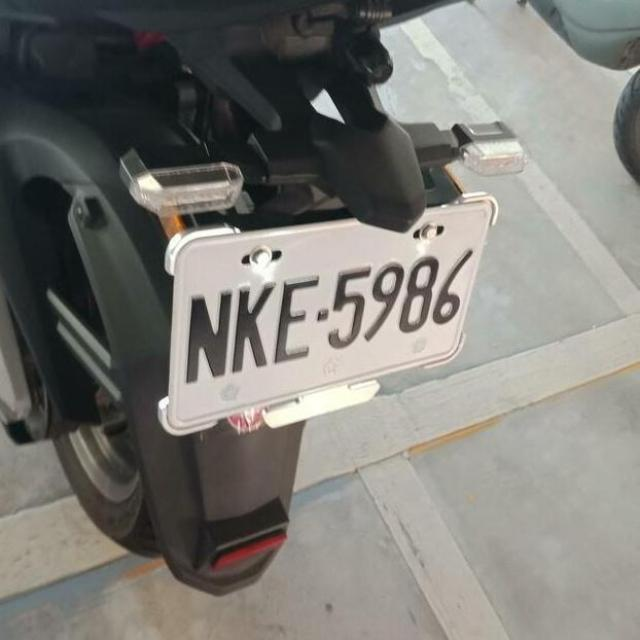W: (167, 197, 494, 432)
